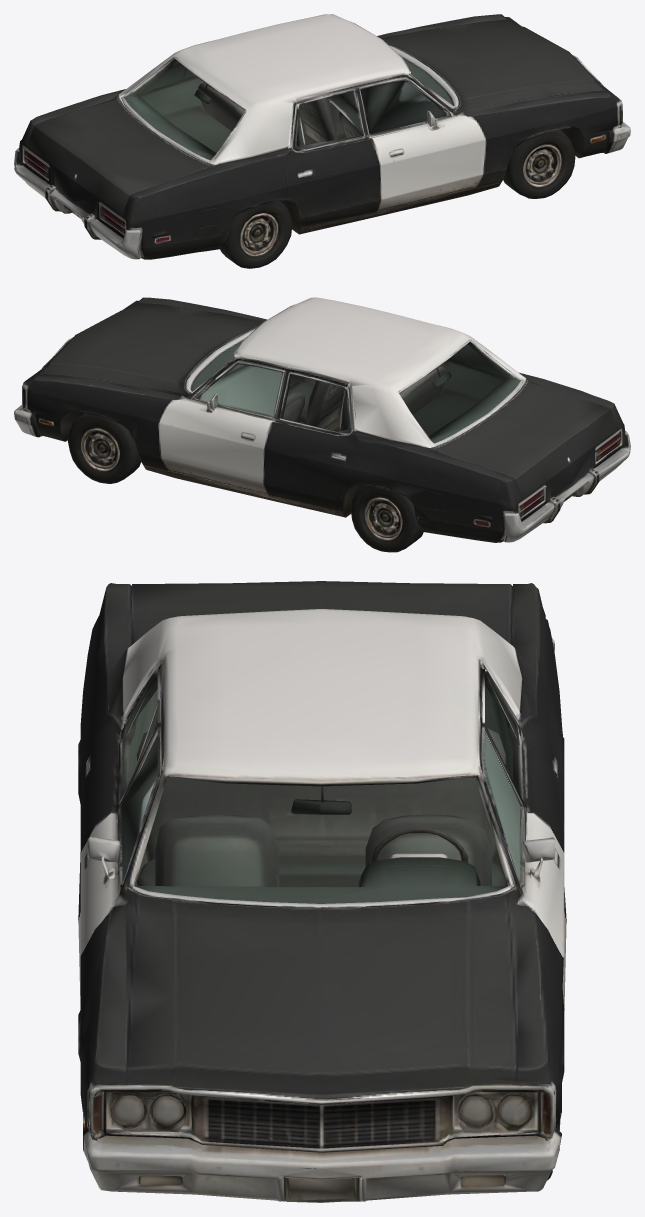
Rendered from car-4.glb.
3 views of the same model, one above another, from view 1: azimuth 30°, elevation 25°; view 2: azimuth 150°, elevation 25°; view 3: azimuth 270°, elevation 25° (orthographic). The views are drawn at different scales.
Visible parts, largest first — view 1: tripo_node_3626ac0e-5c19-4b38-bc9d-3211b29e535d; view 2: tripo_node_3626ac0e-5c19-4b38-bc9d-3211b29e535d; view 3: tripo_node_3626ac0e-5c19-4b38-bc9d-3211b29e535d.
Part boxes in pixels (box(x1,y1,x2,y2)): tripo_node_3626ac0e-5c19-4b38-bc9d-3211b29e535d: box(14, 14, 630, 268); tripo_node_3626ac0e-5c19-4b38-bc9d-3211b29e535d: box(14, 297, 630, 552); tripo_node_3626ac0e-5c19-4b38-bc9d-3211b29e535d: box(78, 581, 566, 1202).
Bounding box in the file's own units: 5.29 × 1.5 × 2.16.
1 material, 1 textured.
